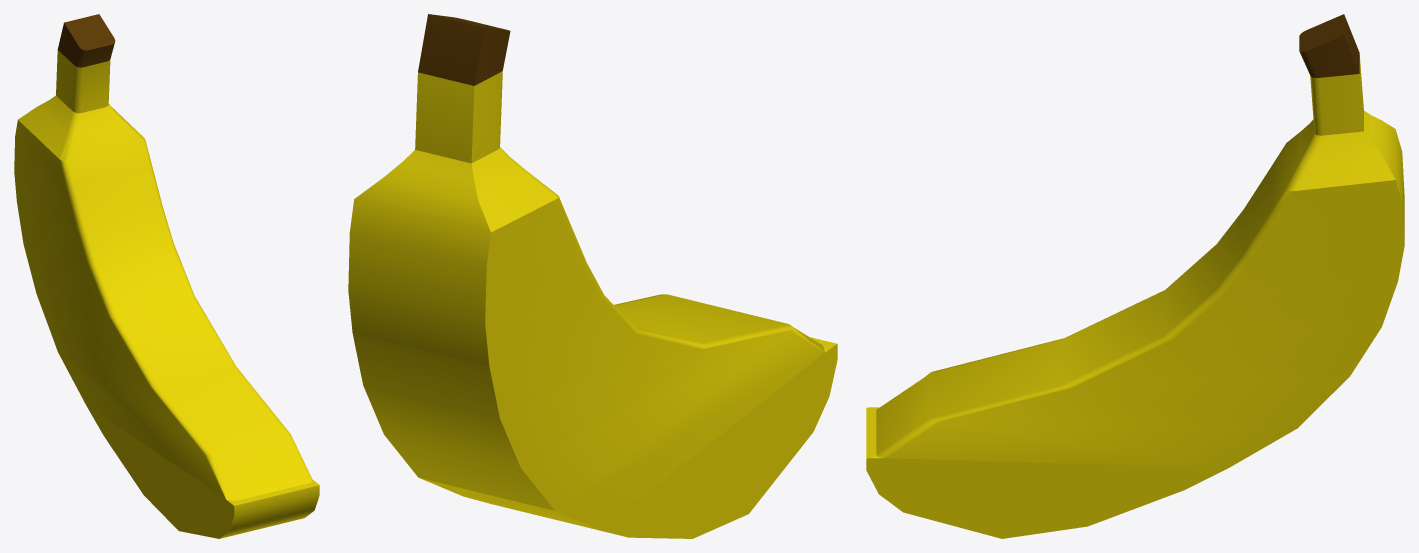
The model's file is Banana.fbx.
3 views of the same model, side by side, from view 1: azimuth 30°, elevation 25°; view 2: azimuth 150°, elevation 25°; view 3: azimuth 270°, elevation 25° (orthographic). The views are drawn at different scales.
Parts seen in each view (by area): view 1: Plane; view 2: Plane; view 3: Plane.
Boxes of the visible parts, left/top/right/bottom form: Plane: left=14, top=14, right=319, bottom=538; Plane: left=348, top=14, right=837, bottom=538; Plane: left=866, top=14, right=1404, bottom=538.
Size of the model in its own units: 22.32 by 99.83 by 99.57.
